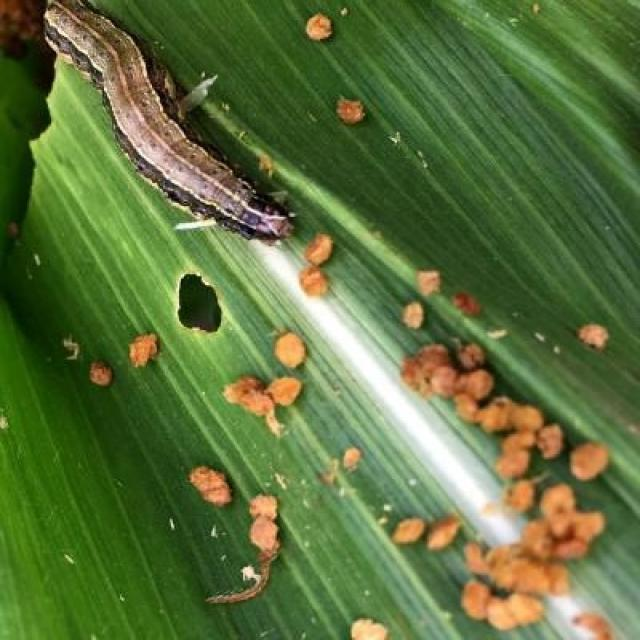army worm: (29, 6, 303, 254)
